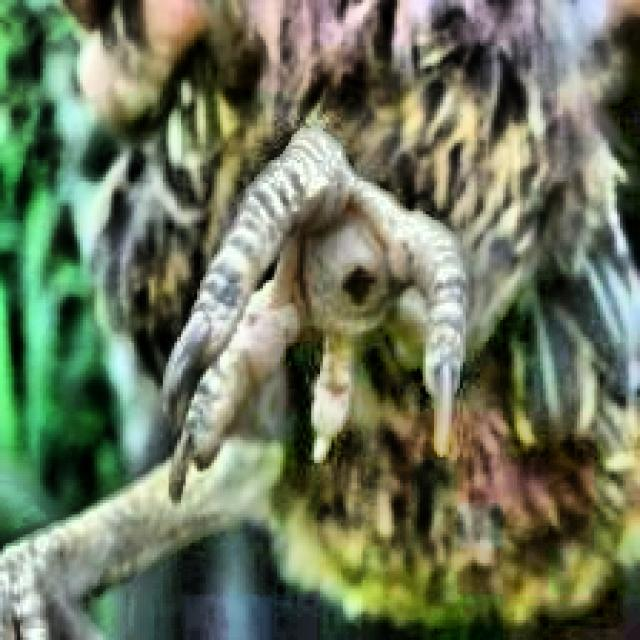Bumble foot: (321, 250, 390, 318)
